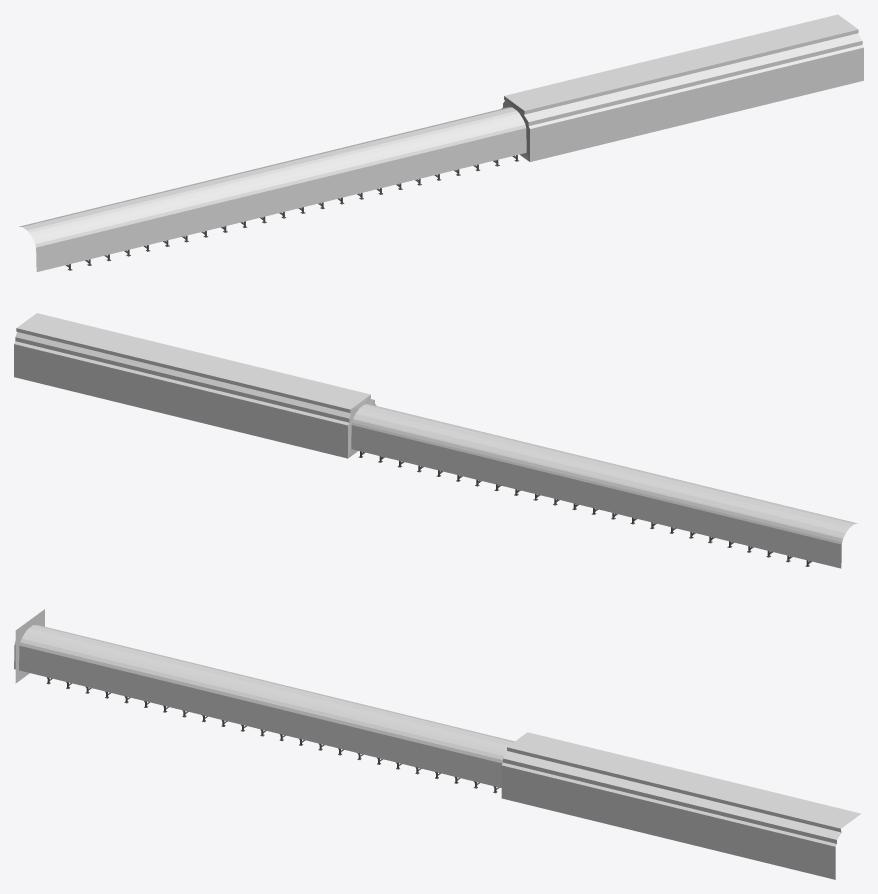
File: Kobe.runtime.glb
3 views of the same model, one above another, from view 1: azimuth 30°, elevation 25°; view 2: azimuth 150°, elevation 25°; view 3: azimuth 330°, elevation 25° (orthographic).
Visible parts, largest first — view 1: Tunnel Wall; view 2: Tunnel Wall; view 3: Tunnel Wall, Plane.
Part boxes in pixels (x1,y1,x2,y2): Tunnel Wall: [19, 14, 863, 271]; Tunnel Wall: [14, 313, 857, 568]; Tunnel Wall: [14, 625, 860, 879]; Plane: [15, 609, 44, 683].
Size of the model in its own units: 44.09 by 2.72 by 2.72.
Materials: 7 (5 with a texture image).
